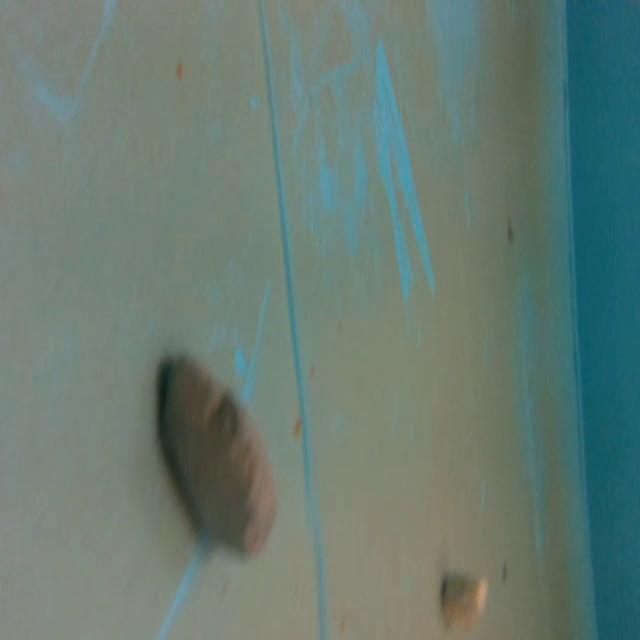rock: (156, 348, 286, 564), (440, 569, 488, 633)
